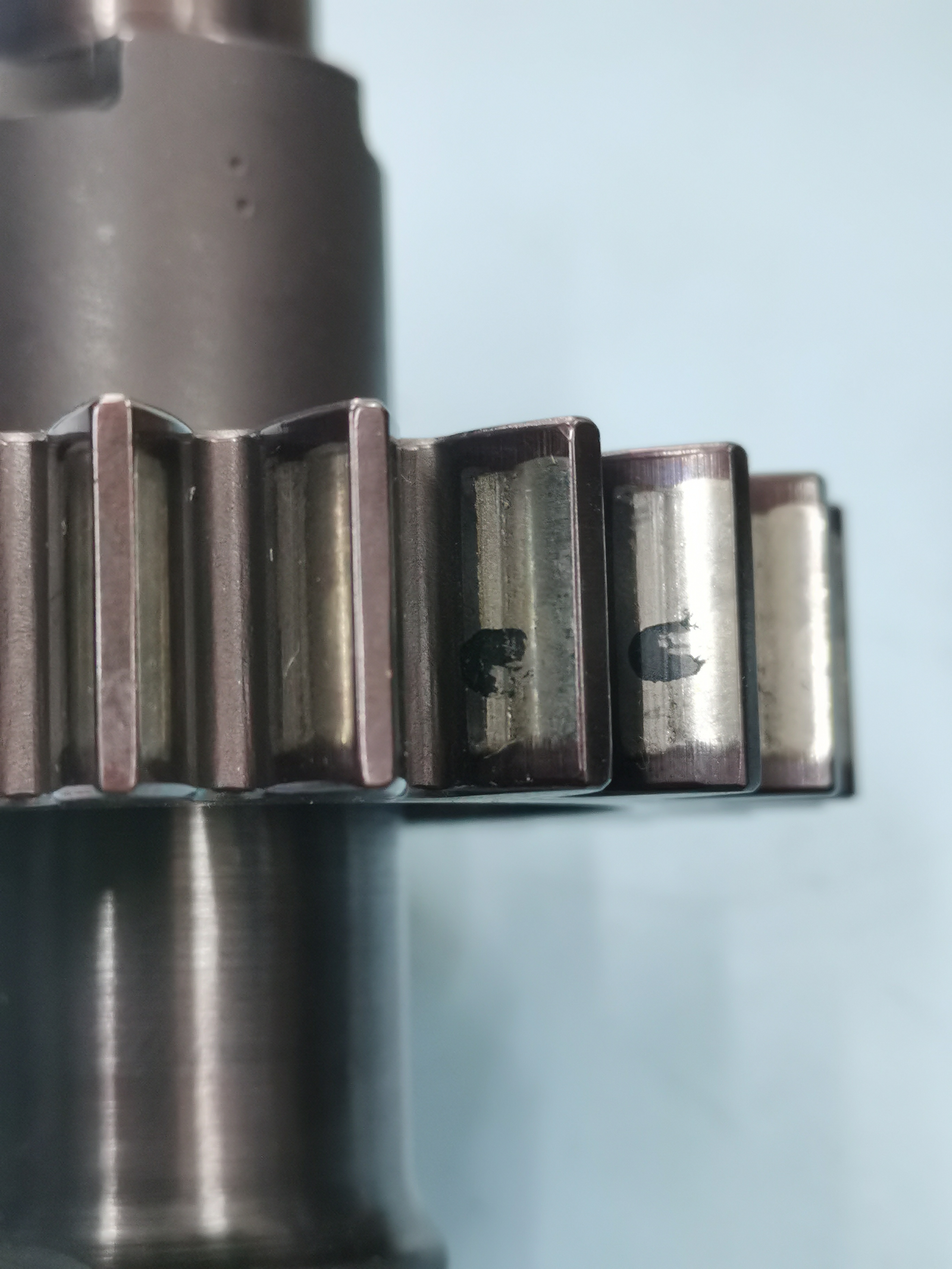Abrasion: (422, 409, 595, 792), (236, 421, 369, 789), (622, 442, 735, 790), (758, 468, 837, 790)
